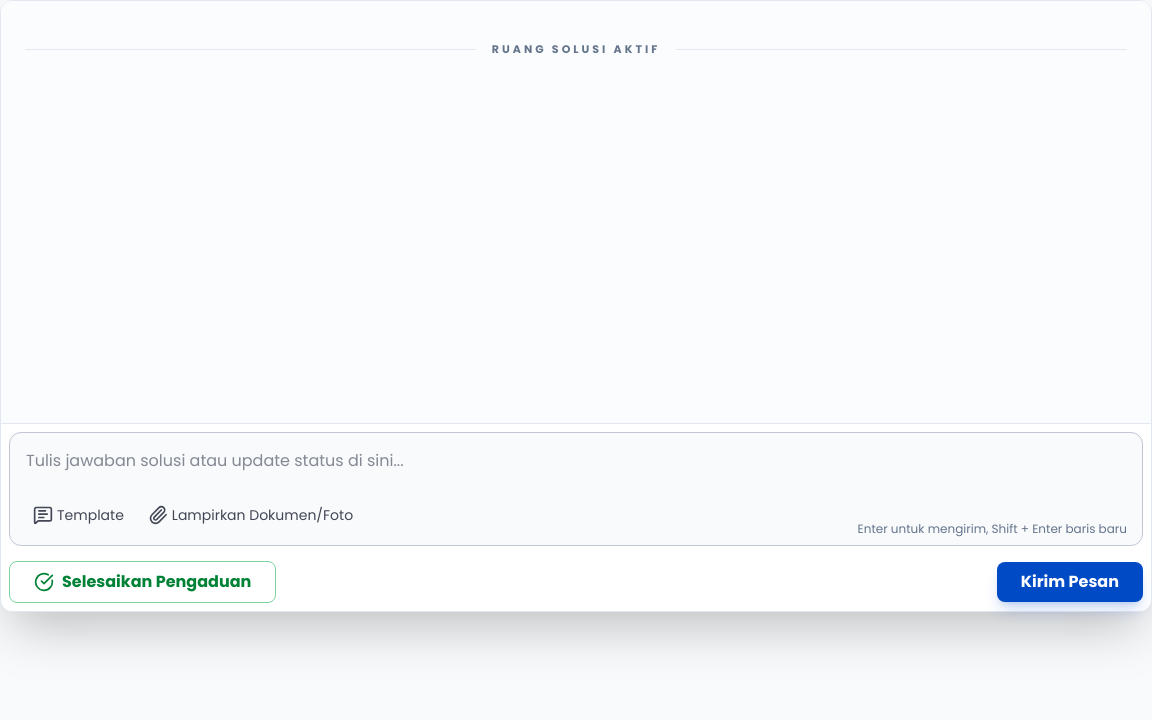
Test: AdminResolutionWorkspace — template pesan › menawarkan template admin
What coordinates should you click on to do the following:
click the button with aria-label "template pesan"
I would click on:
 (78, 515)
Its box is 25,493 -> 132,537.
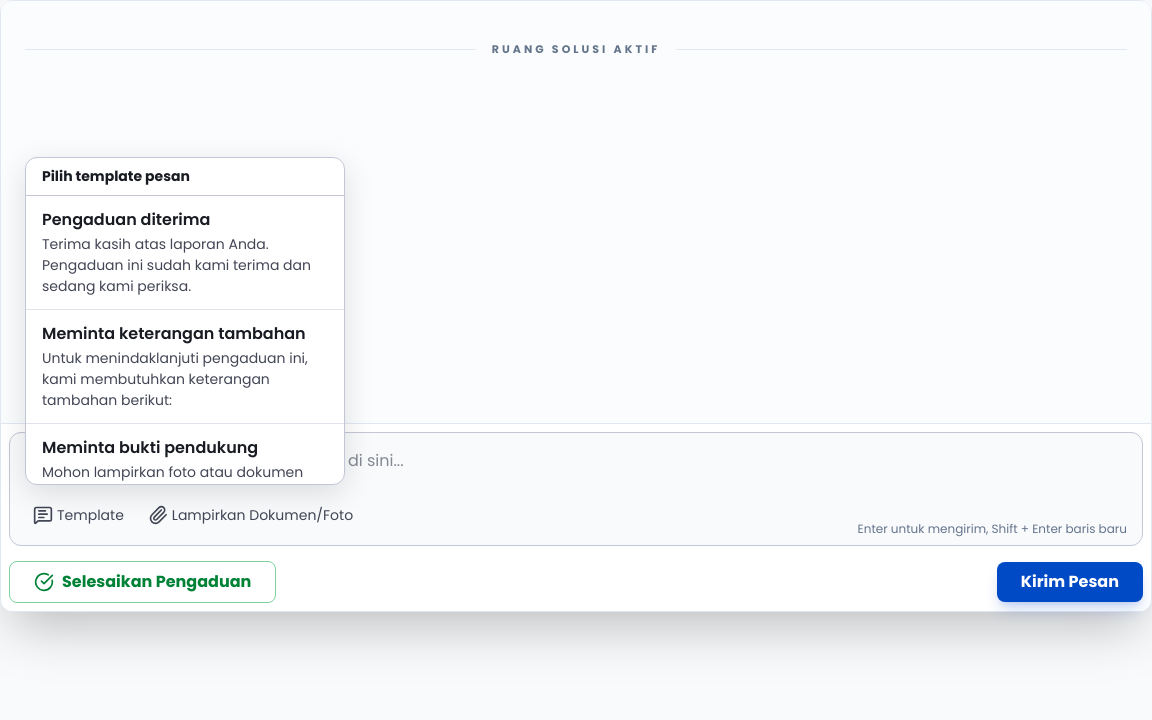
Expected: the text "Pengaduan diterima" is shown, 42,208 -> 210,231
